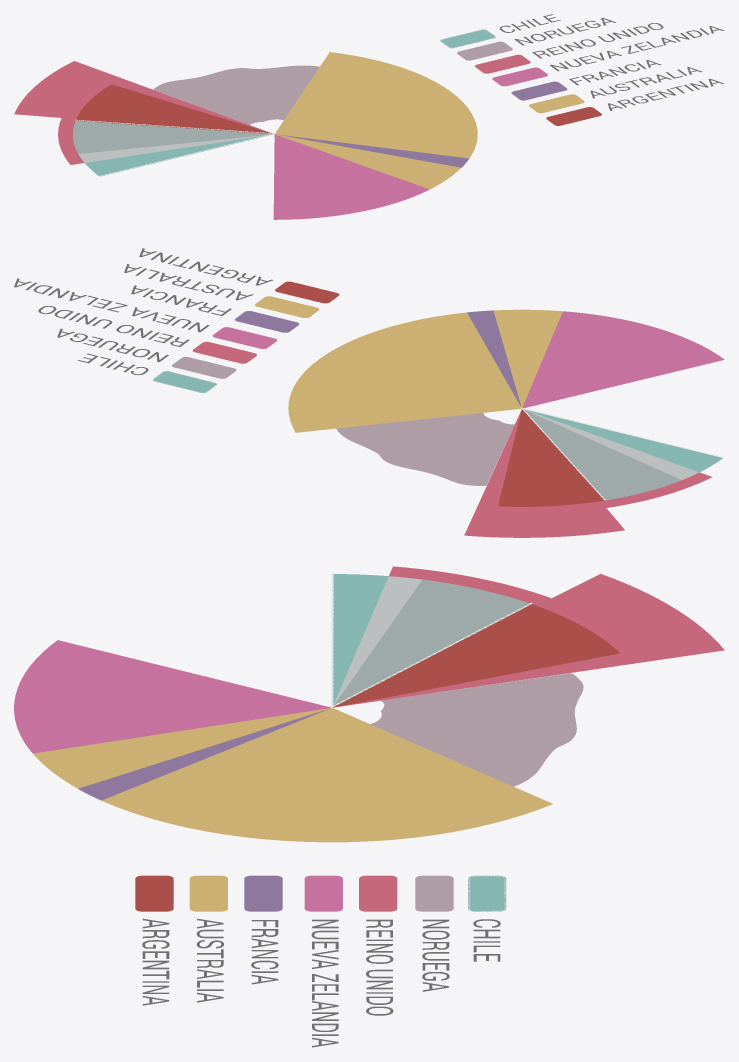
Rendered from Continente de paz2 .fbx.
The picture shows the model from 3 angles, top to bottom: view 1: azimuth 30°, elevation 25°; view 2: azimuth 150°, elevation 25°; view 3: azimuth 270°, elevation 25°; orthographic projection. The views are drawn at different scales.
Parts seen in each view (by area): view 1: Curve_068, Curve_071, Curve_072, Curve_074, Curve_079, Curve_091, Curve_069, Curve_081, Curve_070, Curve_084, Curve_041, Curve_050 (+6 smaller); view 2: Curve_068, Curve_071, Curve_072, Curve_074, Curve_079, Curve_091, Curve_069, Curve_081, Curve_070, Curve_084, Curve_067, Curve_023 (+6 smaller); view 3: Curve_068, Curve_071, Curve_072, Curve_074, Curve_079, Curve_091, Curve_069, Curve_081, Curve_070, Curve_084, Curve_067, Curve_050 (+6 smaller).
Boxes of the visible parts, x1,y1,x2,y2 form: Curve_068: [275, 52, 477, 158]; Curve_071: [273, 134, 429, 219]; Curve_072: [153, 65, 319, 124]; Curve_074: [14, 61, 270, 164]; Curve_079: [76, 84, 272, 133]; Curve_091: [73, 120, 273, 153]; Curve_069: [275, 134, 460, 189]; Curve_081: [85, 134, 273, 176]; Curve_070: [276, 134, 469, 167]; Curve_084: [76, 134, 272, 162]; Curve_041: [511, 81, 567, 100]; Curve_050: [457, 41, 512, 60]; Curve_068: [288, 312, 521, 432]; Curve_071: [522, 311, 724, 408]; Curve_072: [336, 413, 514, 485]; Curve_074: [464, 410, 712, 537]; Curve_079: [498, 409, 604, 506]; Curve_091: [524, 410, 681, 500]; Curve_069: [493, 309, 562, 407]; Curve_081: [524, 409, 722, 472]; Curve_070: [467, 310, 521, 407]; Curve_084: [524, 409, 698, 479]; Curve_067: [275, 281, 339, 303]; Curve_023: [192, 341, 256, 363]; Curve_068: [101, 708, 552, 842]; Curve_071: [14, 640, 330, 753]; Curve_072: [370, 673, 583, 786]; Curve_074: [337, 566, 724, 706]; Curve_079: [333, 604, 619, 707]; Curve_091: [334, 579, 530, 706]; Curve_069: [33, 708, 330, 788]; Curve_081: [332, 574, 388, 705]; Curve_070: [78, 708, 330, 800]; Curve_084: [333, 576, 440, 705]; Curve_067: [135, 875, 173, 911]; Curve_050: [415, 875, 453, 911].
Size of what is drawn, in the model's own units: 1033 by 1 by 645.
